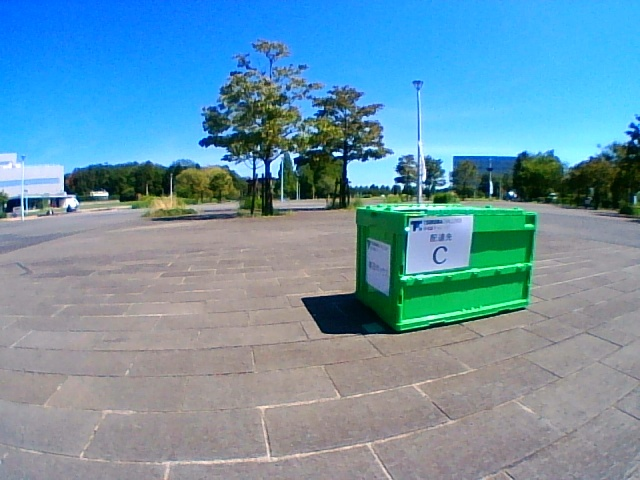green_box: (355, 203, 536, 330)
tag_c: (410, 219, 468, 268)
